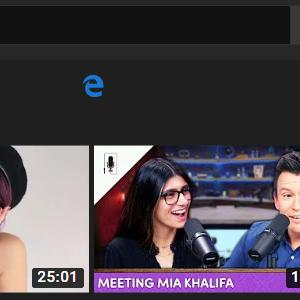edge: (82, 74, 104, 97)
